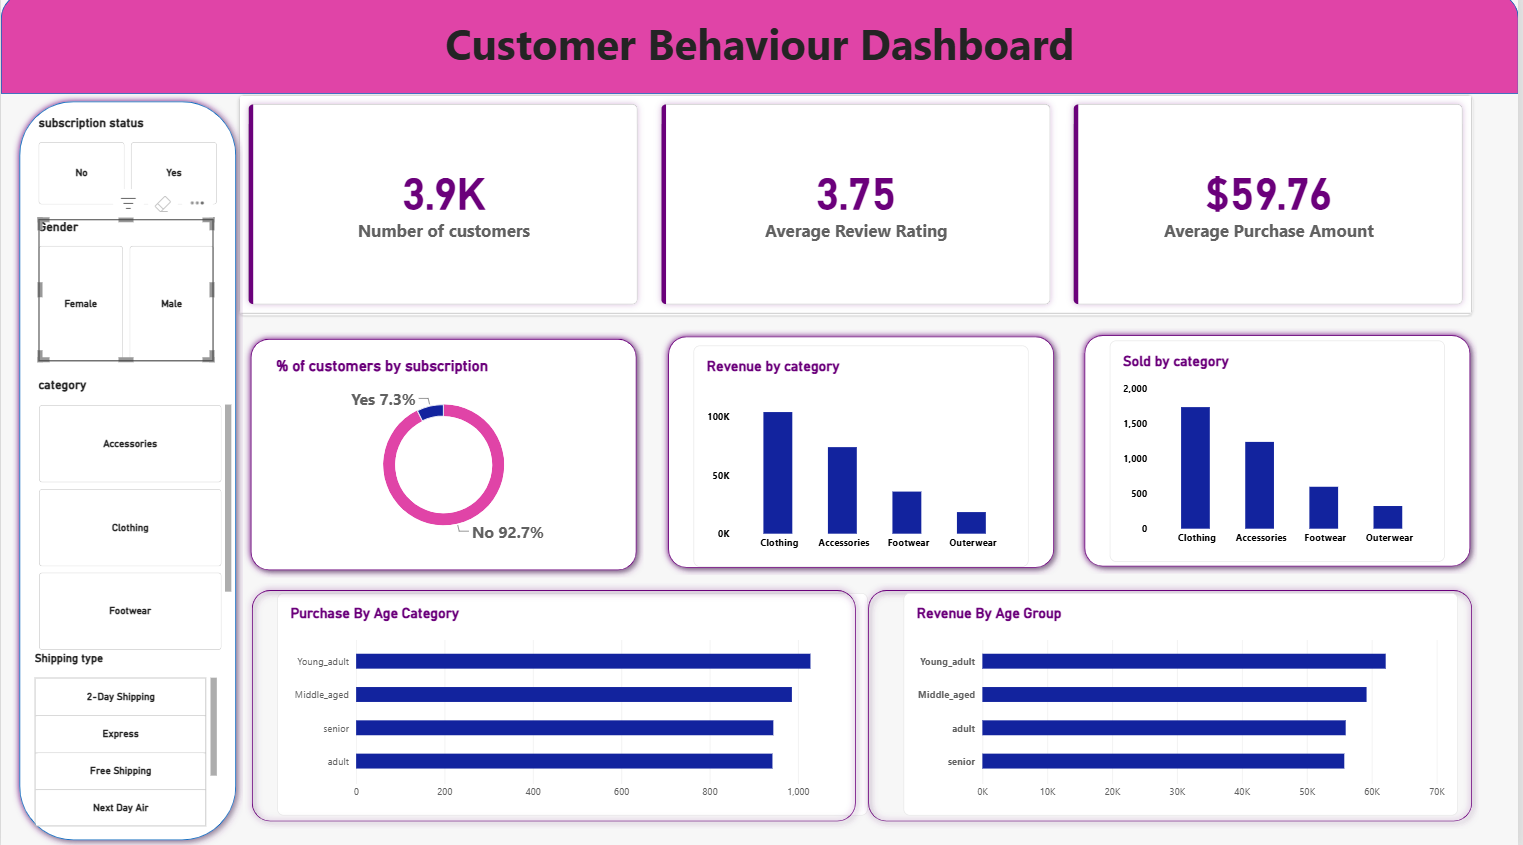

Layout of this report page (visuals, bound fields, positions):
{"tool":"powerbi","page":{"name":"Page 1","canvas":[1920,1080],"ordinal":0},"visuals":[{"type":"cardVisual","fields":{"Data":["customer_behaviour.Number of customers","customer_behaviour.Average Review Rating","customer_behaviour.Average Purchase Amount"]},"box":[300.5,127.6,1562.3,279.9],"z":0},{"type":"shape","box":[0,0,1920.4,127.6],"z":1000},{"type":"textbox","box":[0,26.8,1920.4,100.9],"z":2000},{"type":"shape","box":[306.7,428.1,506.3,310.8],"z":3000},{"type":"donutChart","title":"% of customers by subscription","fields":{"Category":["customer_behaviour.subscription_status"],"Y":["Sum(customer_behaviour.customer_id)"]},"box":[331.4,446.7,456,265.5],"z":4000},{"type":"shape","box":[835.7,426.1,506.3,310.8],"z":5000},{"type":"shape","box":[1362.6,424,506.3,310.8],"z":6000},{"type":"clusteredColumnChart","title":"Revenue by category","fields":{"Category":["customer_behaviour.category"],"Y":["Sum(customer_behaviour.purchase_amount)"]},"box":[876.8,446.7,424,279.9],"z":7000},{"type":"clusteredColumnChart","title":"Sold by category","fields":{"Category":["customer_behaviour.category"],"Y":["CountNonNull(customer_behaviour.customer_id)"]},"box":[1403.8,440.5,424,279.9],"z":8000},{"type":"shape","box":[14.4,127.6,292.3,953],"z":9000},{"type":"advancedSlicerVisual","title":"subscription status","fields":{"Values":["customer_behaviour.subscription_status"]},"box":[47.3,154.4,226.4,113.2],"z":10000},{"type":"advancedSlicerVisual","title":"Gender","fields":{"Values":["customer_behaviour.gender"]},"box":[47.3,286.1,222.3,181.1],"z":11000},{"type":"advancedSlicerVisual","fields":{"Values":["customer_behaviour.category"]},"box":[47.3,487.8,244.9,345.8],"z":12000},{"type":"advancedSlicerVisual","title":"Shipping type","fields":{"Values":["customer_behaviour.shipping_type"]},"box":[43.2,833.6,230.5,222.3],"z":13000},{"type":"clusteredBarChart","title":"Purchase By Age Category","fields":{"Category":["customer_behaviour.age_category"],"Y":["CountNonNull(customer_behaviour.purchase_amount)"]},"box":[349.9,759.5,747.2,282],"z":14000},{"type":"shape","box":[308.7,747.2,782.2,310.8],"z":15000},{"type":"shape","box":[1088.9,747.2,782.2,310.8],"z":16000},{"type":"clusteredBarChart","title":"Revenue By Age Group","fields":{"Category":["customer_behaviour.age_category"],"Y":["Sum(customer_behaviour.purchase_amount)"]},"box":[1142.4,759.5,701.9,282],"z":17000}]}

Visuals, with their boxes in screenshot pixels (x1, y1, x2, y2), scaled from the page's 1920x1080 canvas onto the 1523x845 screenshot:
cardVisual - customer_behaviour.Number of customers x customer_behaviour.Average Review Rating: 238 100 1478 319
shape: 0 0 1522 100
textbox: 0 21 1522 100
shape: 243 335 645 578
"% of customers by subscription" donutChart: 263 350 625 557
shape: 663 333 1065 577
shape: 1081 332 1482 575
"Revenue by category" clusteredColumnChart: 696 350 1032 568
"Sold by category" clusteredColumnChart: 1114 345 1450 564
shape: 11 100 243 844
"subscription status" advancedSlicerVisual: 38 121 217 209
"Gender" advancedSlicerVisual: 38 224 214 366
advancedSlicerVisual - customer_behaviour.category: 38 382 232 652
"Shipping type" advancedSlicerVisual: 34 652 217 826
"Purchase By Age Category" clusteredBarChart: 278 594 870 815
shape: 245 585 865 828
shape: 864 585 1484 828
"Revenue By Age Group" clusteredBarChart: 906 594 1463 815
